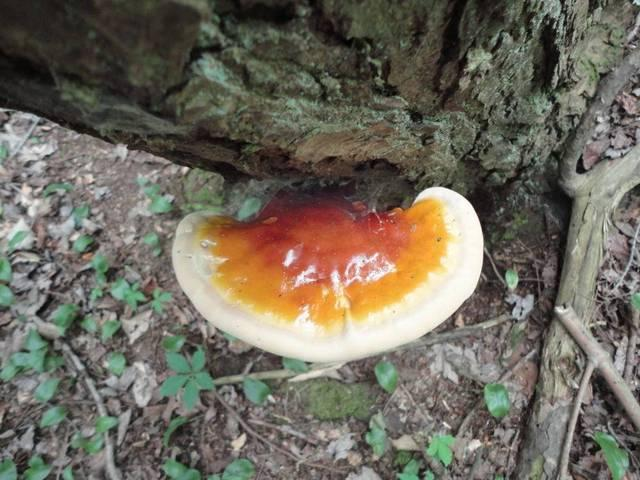Non-edible Mushroom: (170, 181, 485, 367)
